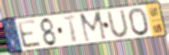8: (39, 16, 58, 48)
E: (16, 19, 43, 50)
M: (78, 10, 109, 44)
O: (127, 7, 151, 37)
T: (61, 15, 79, 44)
U: (105, 9, 131, 39)
